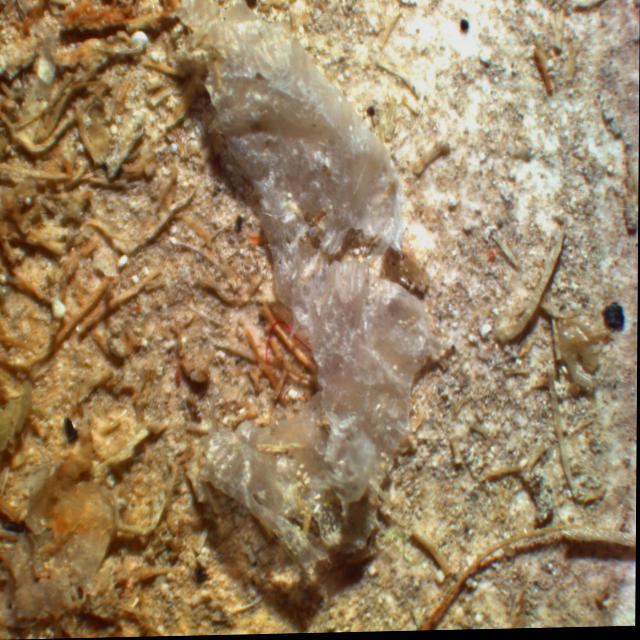microplastic: (174, 0, 428, 586)
